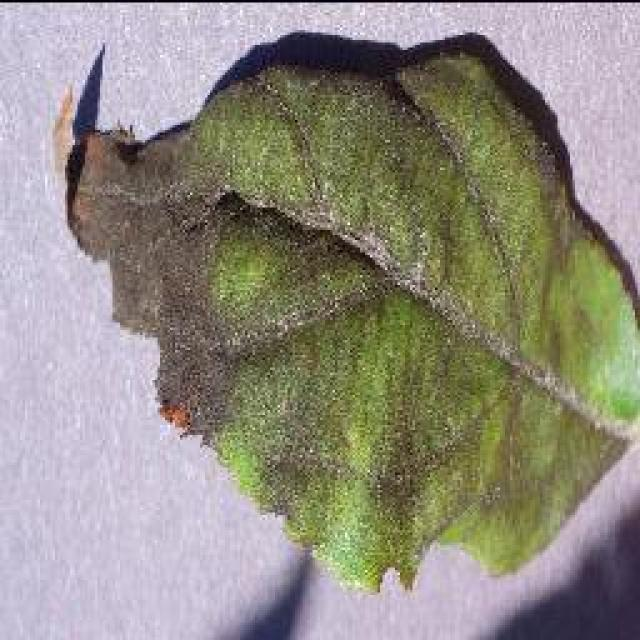apple scab disease: (50, 27, 638, 595)
